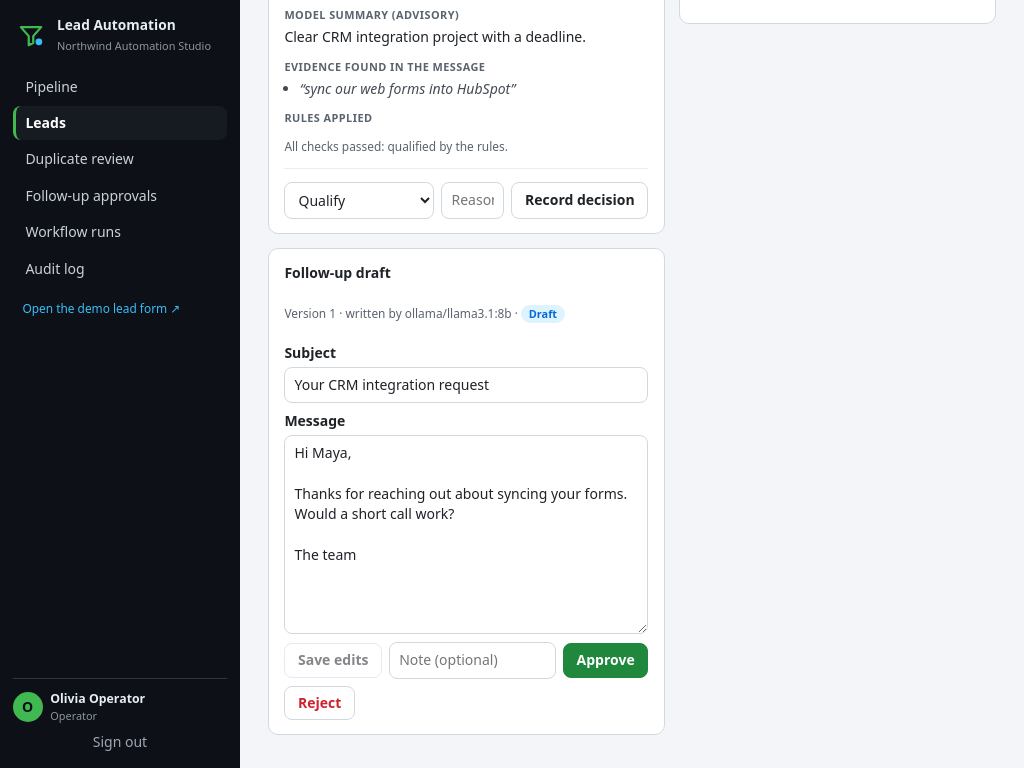
Test: follow-up approval › lets an operator edit, then approve; approve waits until edits are saved
(page scrolled)
Replace the text in the field labelled "Subject" with "Edited subject" at {"x": 466, "y": 385}, box [284,367,648,403]
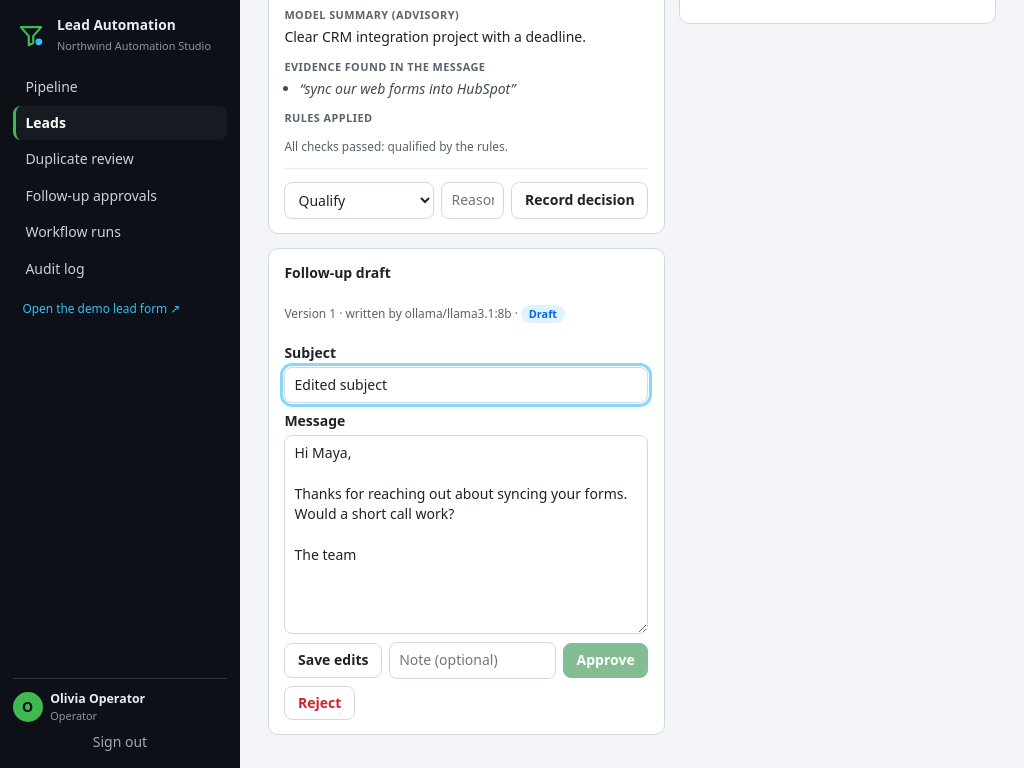
expect the button "Approve" is disabled: met, box [563,643,648,678]
Click the button "Save edits".
click(333, 660)  # box [284,643,382,678]
(page scrolled)
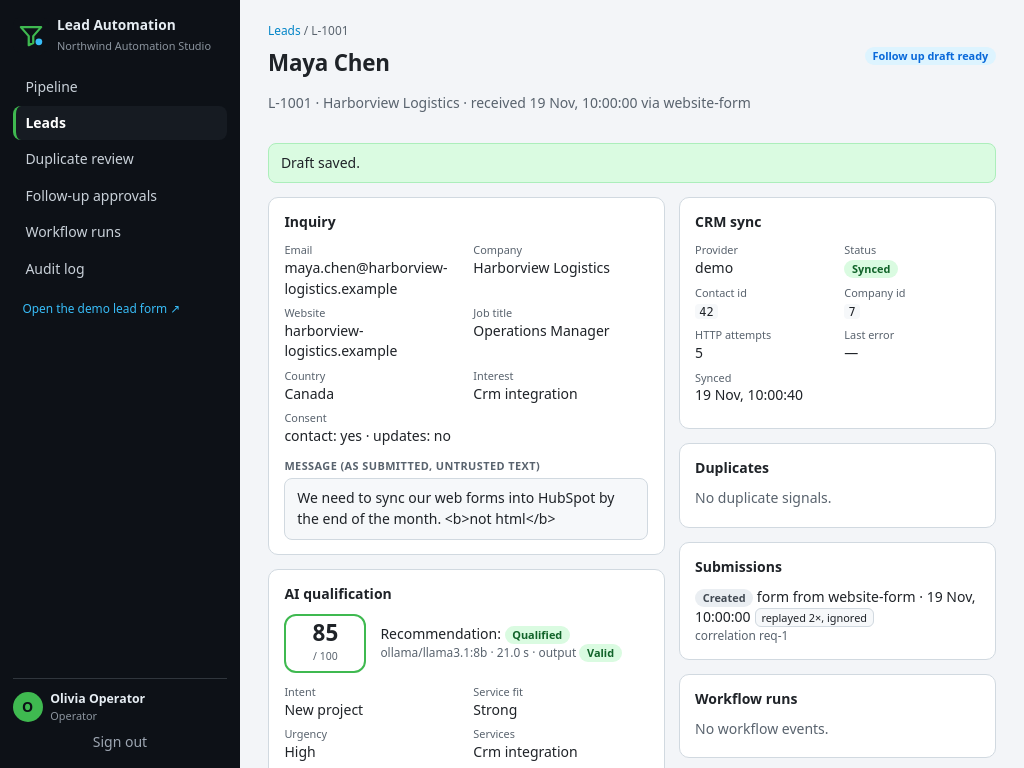
expect the text "Draft saved." is shown: met, box [268,143,996,183]
